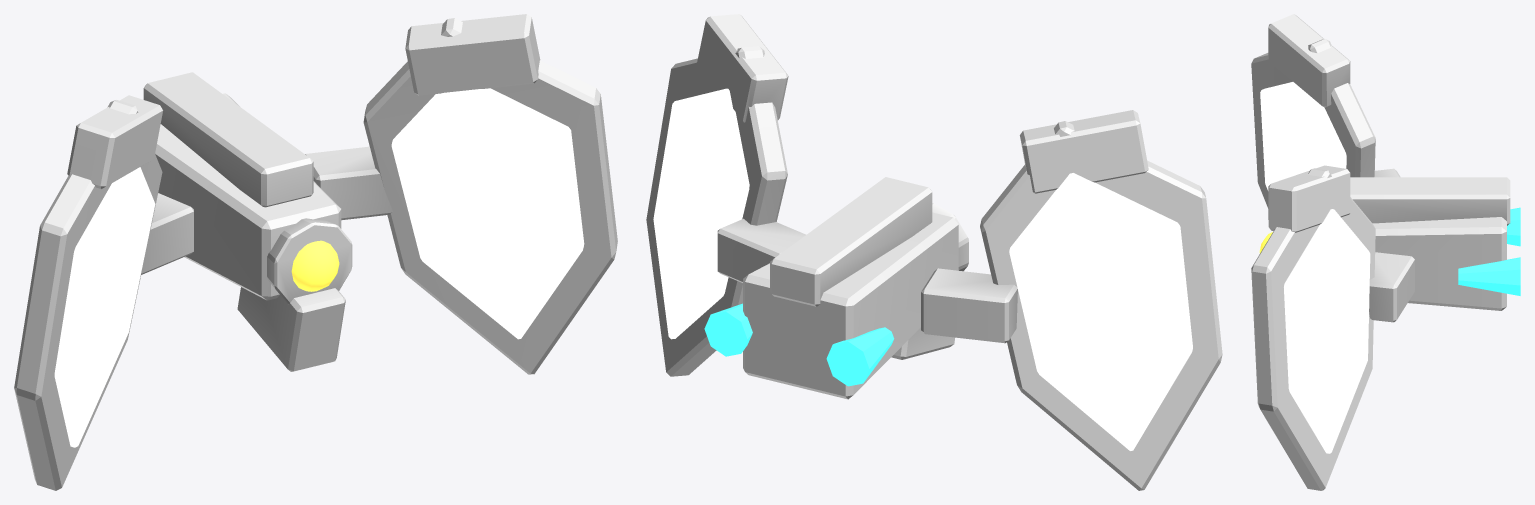
File: e1_aegis_prism.glb
3 views of the same model, side by side, from view 1: azimuth 30°, elevation 25°; view 2: azimuth 150°, elevation 25°; view 3: azimuth 270°, elevation 25° (orthographic). The views are drawn at different scales.
Parts seen in each view (by area): view 1: ShieldHexFace_R, ShieldOuter_R, ShieldHexFace_L, ShieldOuter_L, CoreBody, CoreSpine, ShieldTopCrest_R, ChinSensor, ShieldTopCrest_L, ShieldArm_R, OpticBezel, ShieldArm_L (+1 smaller); view 2: ShieldHexFace_L, ShieldOuter_L, CoreBody, ShieldHexFace_R, ShieldOuter_R, CoreSpine, ShieldTopCrest_L, ShieldArm_L, ShieldTopCrest_R, ShieldArm_R, RearJet_L, RearJet_R (+2 smaller); view 3: ShieldHexFace_R, ShieldOuter_R, CoreBody, CoreSpine, ShieldHexFace_L, ShieldOuter_L, ShieldTopCrest_L, ShieldTopCrest_R, ShieldArm_R, RearJet_R, RearJet_L.
Boxes of the visible parts, left/top/right/bottom form: ShieldHexFace_R: left=391, top=88, right=584, bottom=339; ShieldOuter_R: left=363, top=18, right=617, bottom=374; ShieldHexFace_L: left=54, top=167, right=155, bottom=447; ShieldOuter_L: left=14, top=100, right=162, bottom=490; CoreBody: left=155, top=93, right=341, bottom=300; CoreSpine: left=143, top=72, right=313, bottom=207; ShieldTopCrest_R: left=405, top=14, right=540, bottom=95; ChinSensor: left=237, top=287, right=345, bottom=371; ShieldTopCrest_L: left=67, top=95, right=162, bottom=188; ShieldArm_R: left=305, top=146, right=393, bottom=220; OpticBezel: left=267, top=218, right=352, bottom=304; ShieldArm_L: left=141, top=193, right=193, bottom=274; ShieldHexFace_L: left=1009, top=173, right=1192, bottom=450; ShieldOuter_L: left=980, top=121, right=1222, bottom=490; CoreBody: left=743, top=212, right=958, bottom=399; ShieldHexFace_R: left=653, top=88, right=749, bottom=339; ShieldOuter_R: left=646, top=46, right=787, bottom=376; CoreSpine: left=770, top=177, right=932, bottom=306; ShieldTopCrest_L: left=1019, top=110, right=1148, bottom=193; ShieldArm_L: left=921, top=268, right=1017, bottom=343; ShieldTopCrest_R: left=697, top=14, right=788, bottom=122; ShieldArm_R: left=717, top=218, right=806, bottom=282; RearJet_L: left=826, top=327, right=894, bottom=386; RearJet_R: left=704, top=303, right=752, bottom=356; ShieldHexFace_R: left=1284, top=209, right=1370, bottom=453; ShieldOuter_R: left=1251, top=168, right=1375, bottom=490; CoreBody: left=1372, top=217, right=1506, bottom=310; CoreSpine: left=1350, top=177, right=1510, bottom=225; ShieldHexFace_L: left=1260, top=82, right=1346, bottom=190; ShieldOuter_L: left=1251, top=39, right=1375, bottom=208; ShieldTopCrest_L: left=1268, top=14, right=1350, bottom=107; ShieldTopCrest_R: left=1268, top=165, right=1350, bottom=232; ShieldArm_R: left=1369, top=252, right=1414, bottom=322; RearJet_R: left=1458, top=257, right=1520, bottom=295; RearJet_L: left=1507, top=207, right=1520, bottom=246.
Bounding box in the file's own units: 2.34 × 1.38 × 1.14.
